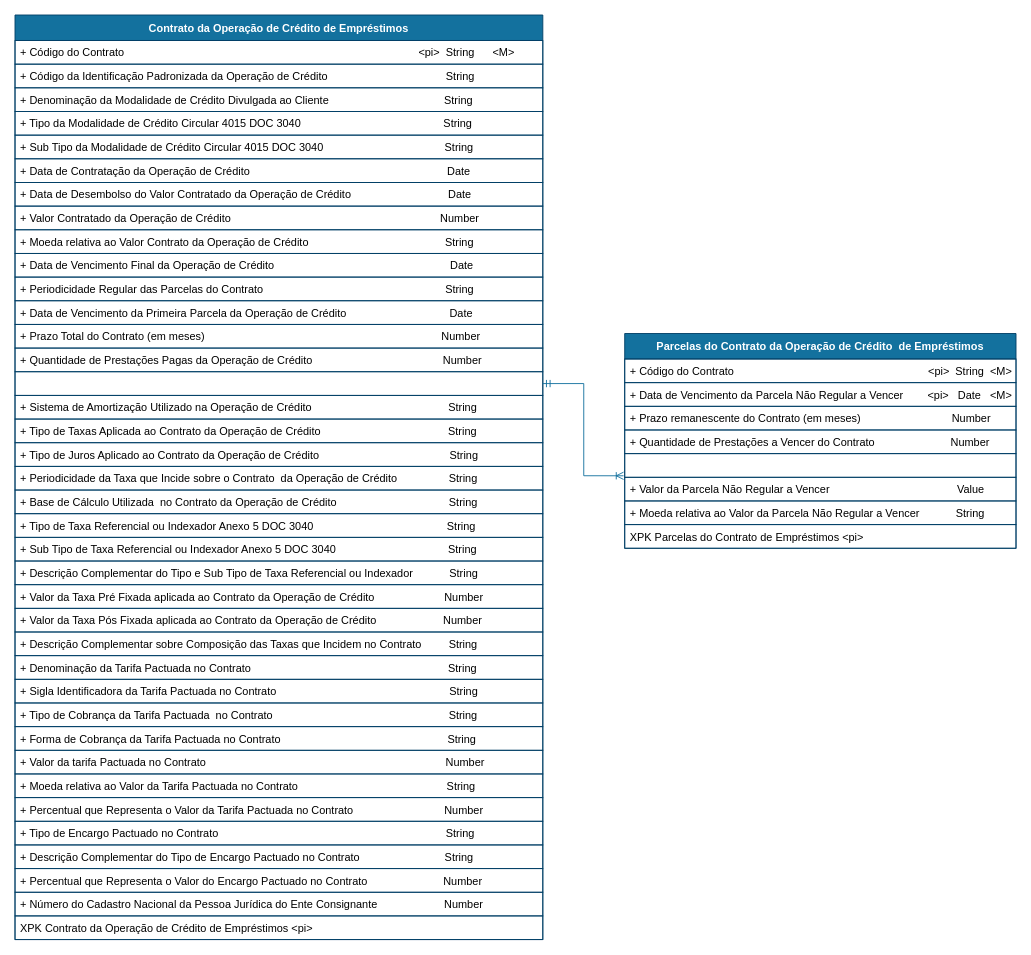
This 1031x955 diagram has some shape labels left out. The centre of each missing label's shape, as x and y in pixels:
"+ Custo Efetivo Total da Operação de Crédito Number" belongs at point (278, 383).
"+ Quantidade de Prestações Vencidas do Contrato Number" belongs at point (820, 465).
